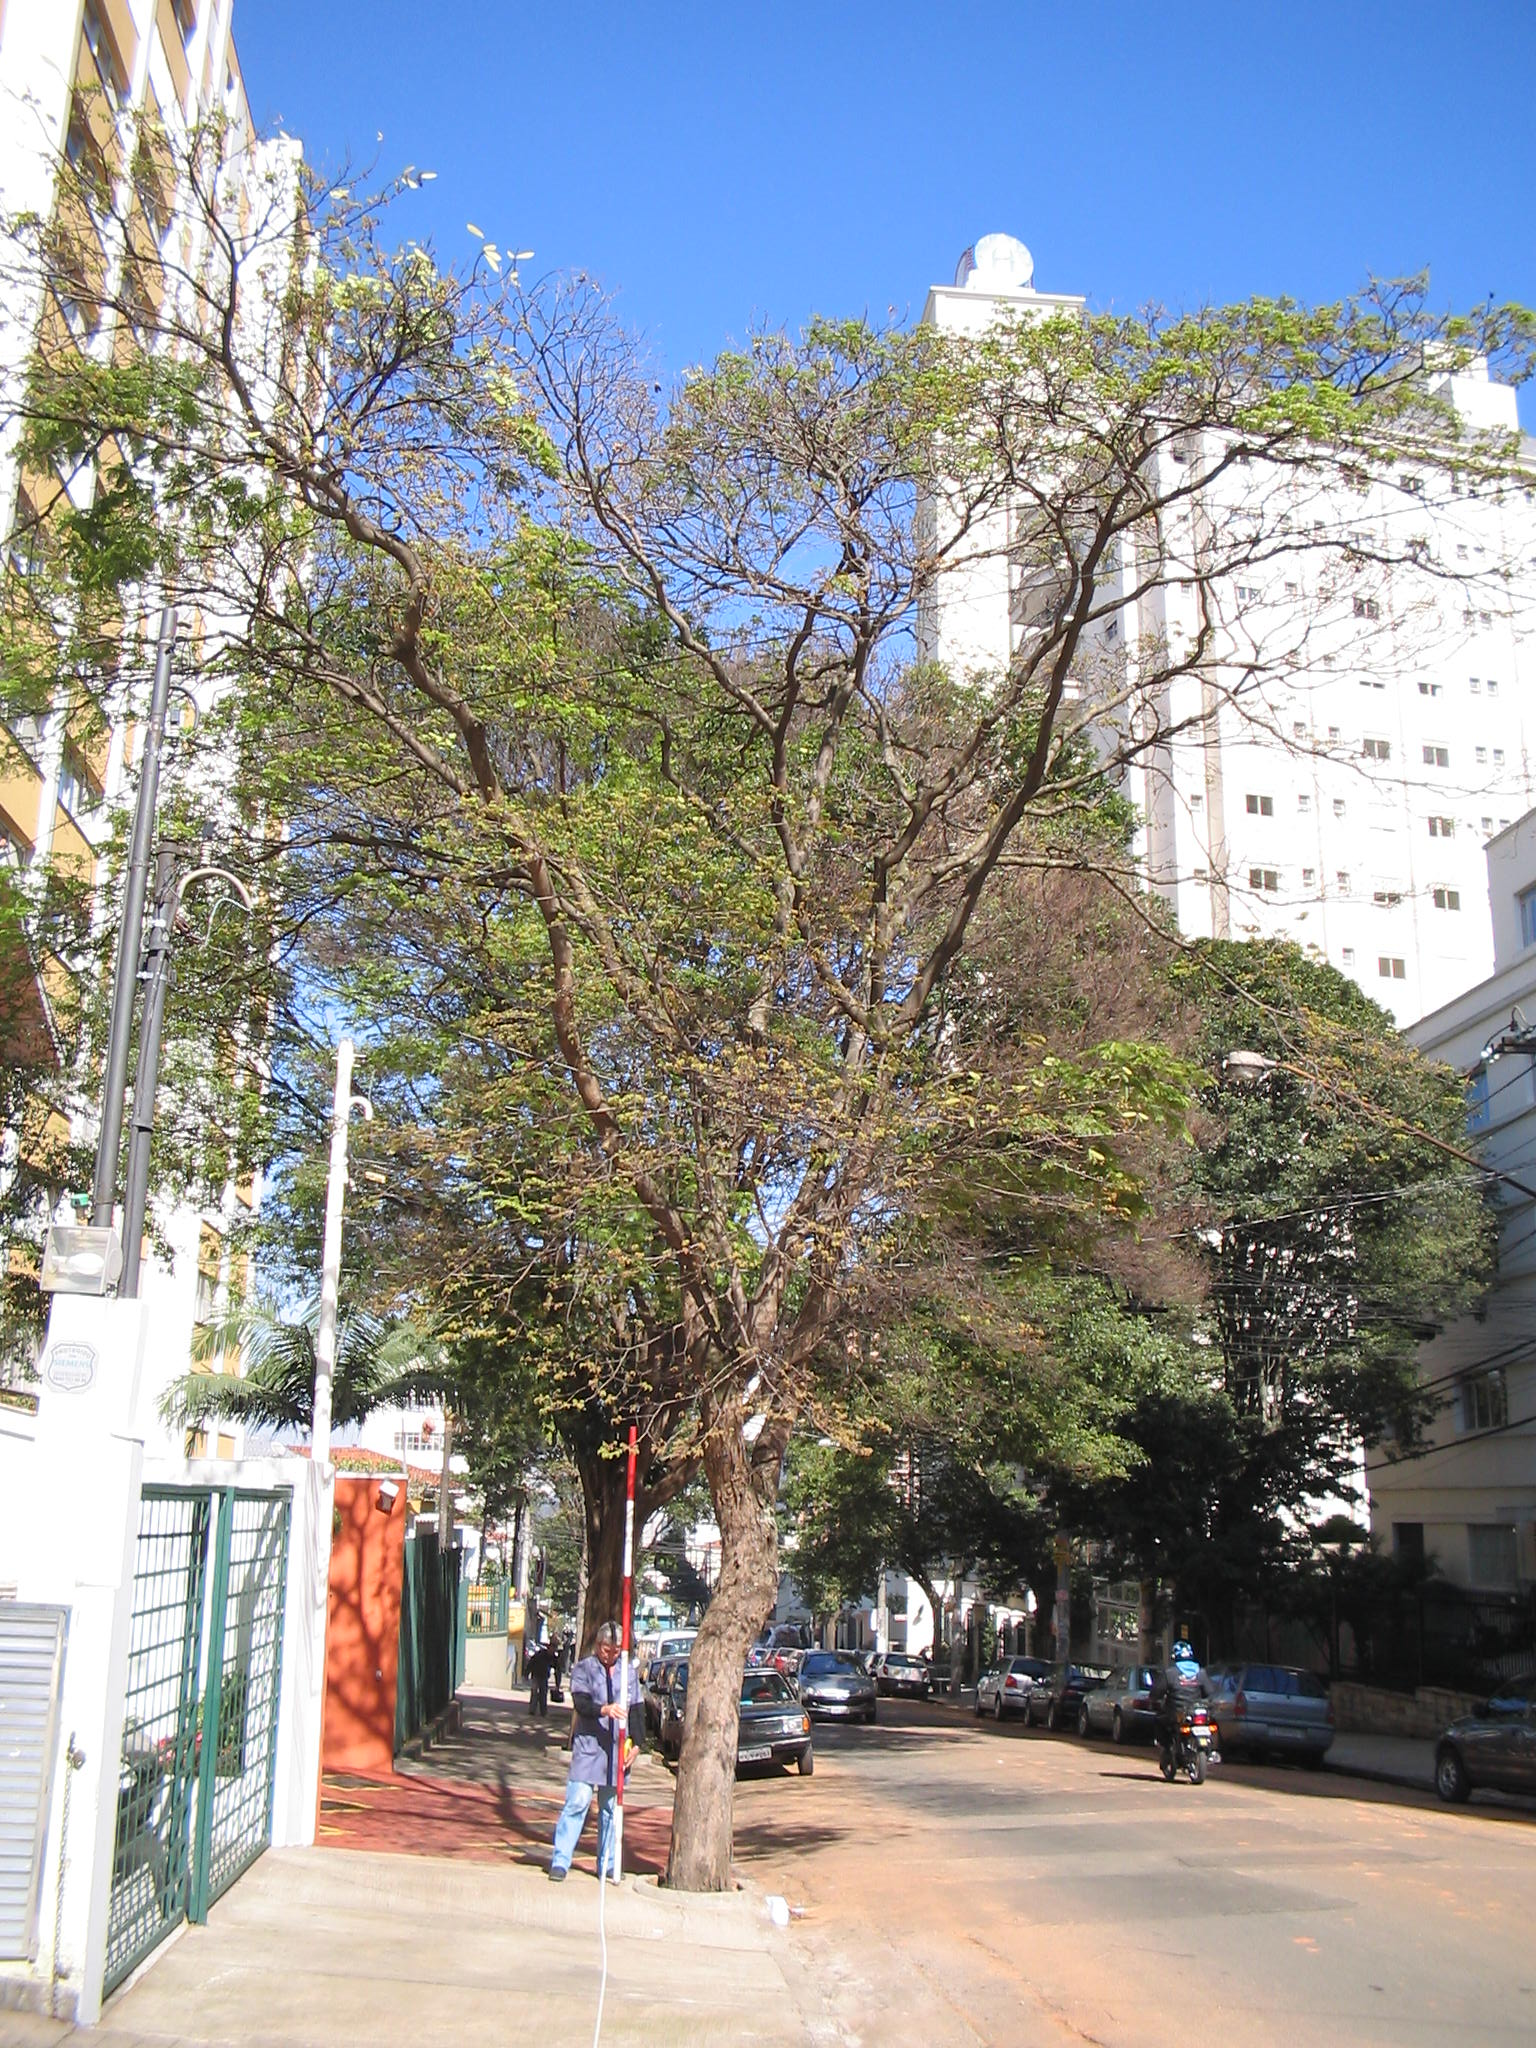crown: (16, 58, 1517, 1508)
stem: (653, 1487, 803, 1896)
stick: (587, 1424, 653, 1871)
tree: (8, 58, 1518, 1900)
